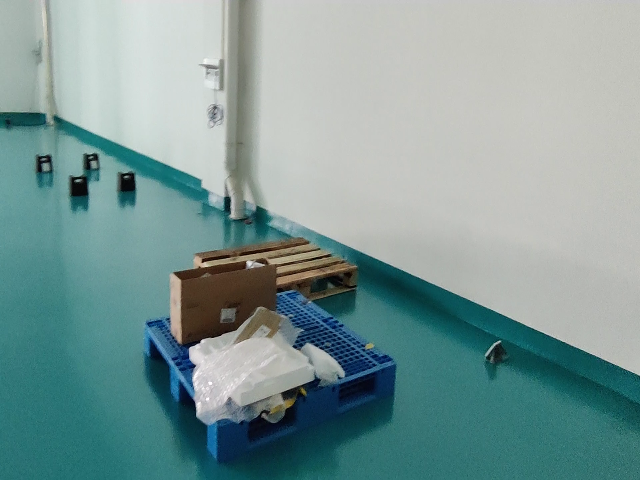block: (297, 383, 339, 431), (206, 420, 250, 465), (377, 364, 396, 401), (169, 364, 182, 403), (142, 322, 152, 357)
front: (140, 323, 218, 461)
hole pallet: (177, 384, 205, 441), (151, 337, 172, 389)
